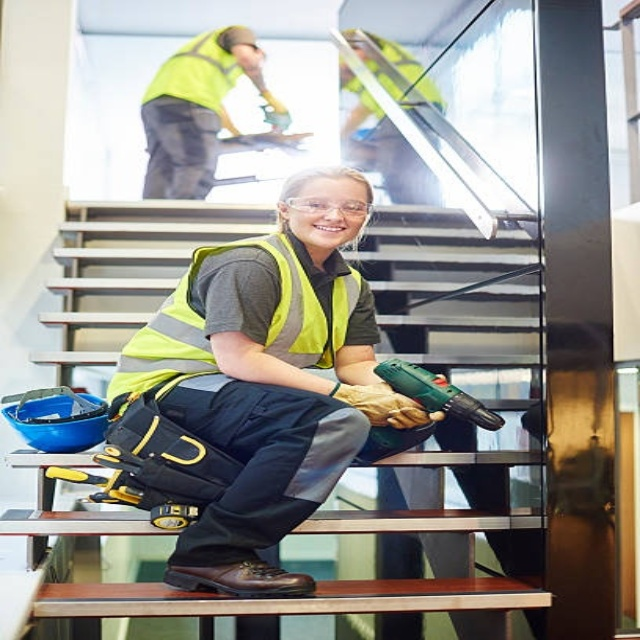Gafas: (285, 195, 372, 221)
Guantes: (331, 382, 442, 428)
Sin_mascara: (309, 220, 350, 242)
